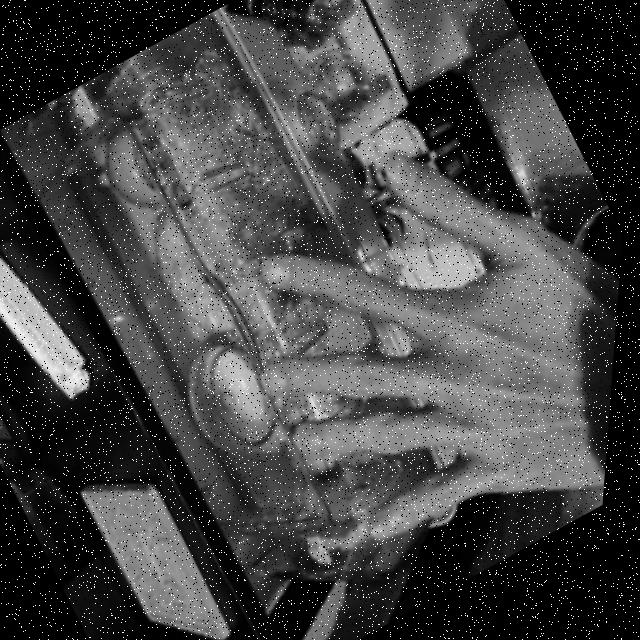hand: (172, 84, 635, 616)
